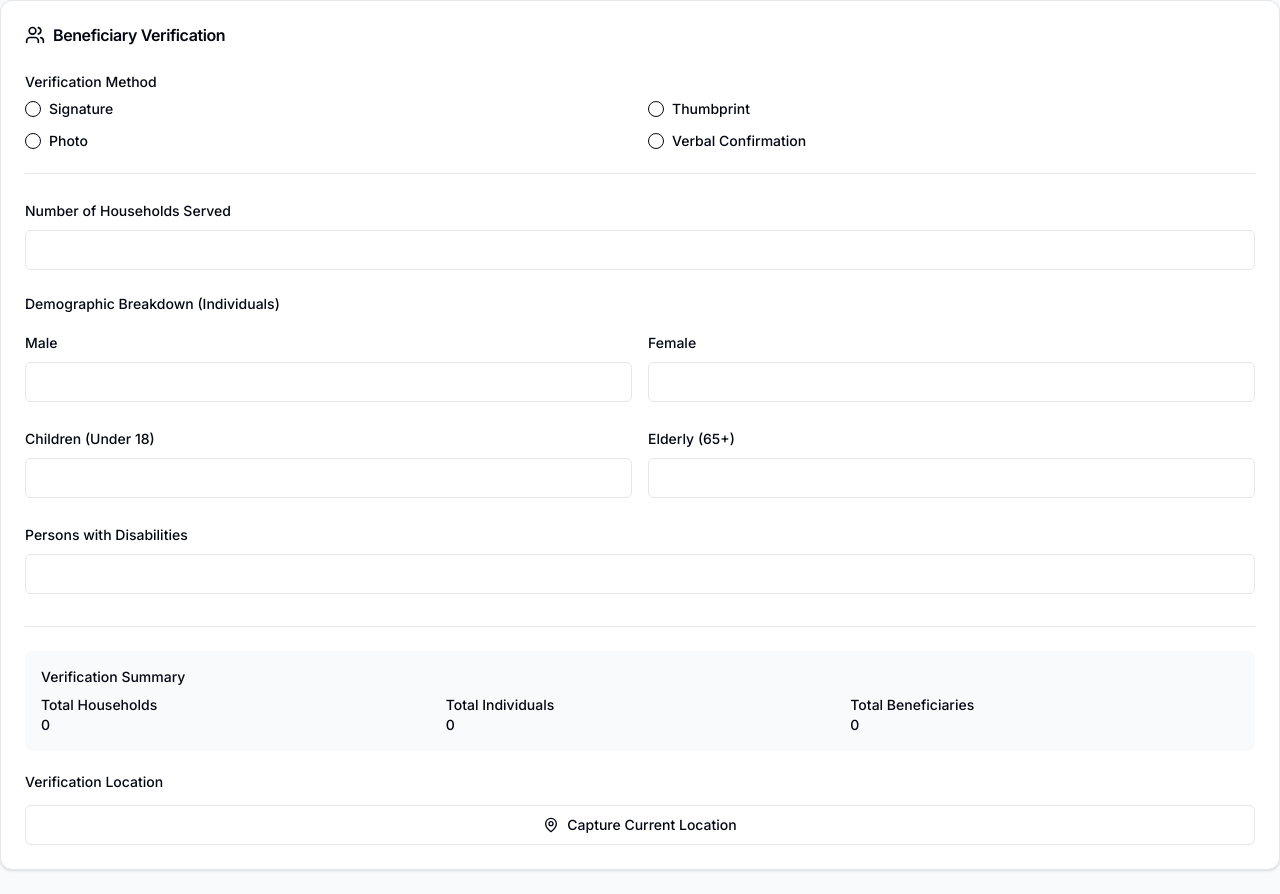
Test case: BeneficiaryVerification › captures GPS location when button is clicked
The image size is (1280, 894).
Click the button "Capture Current Location". click: (640, 825)
box: [25,805,1255,845]
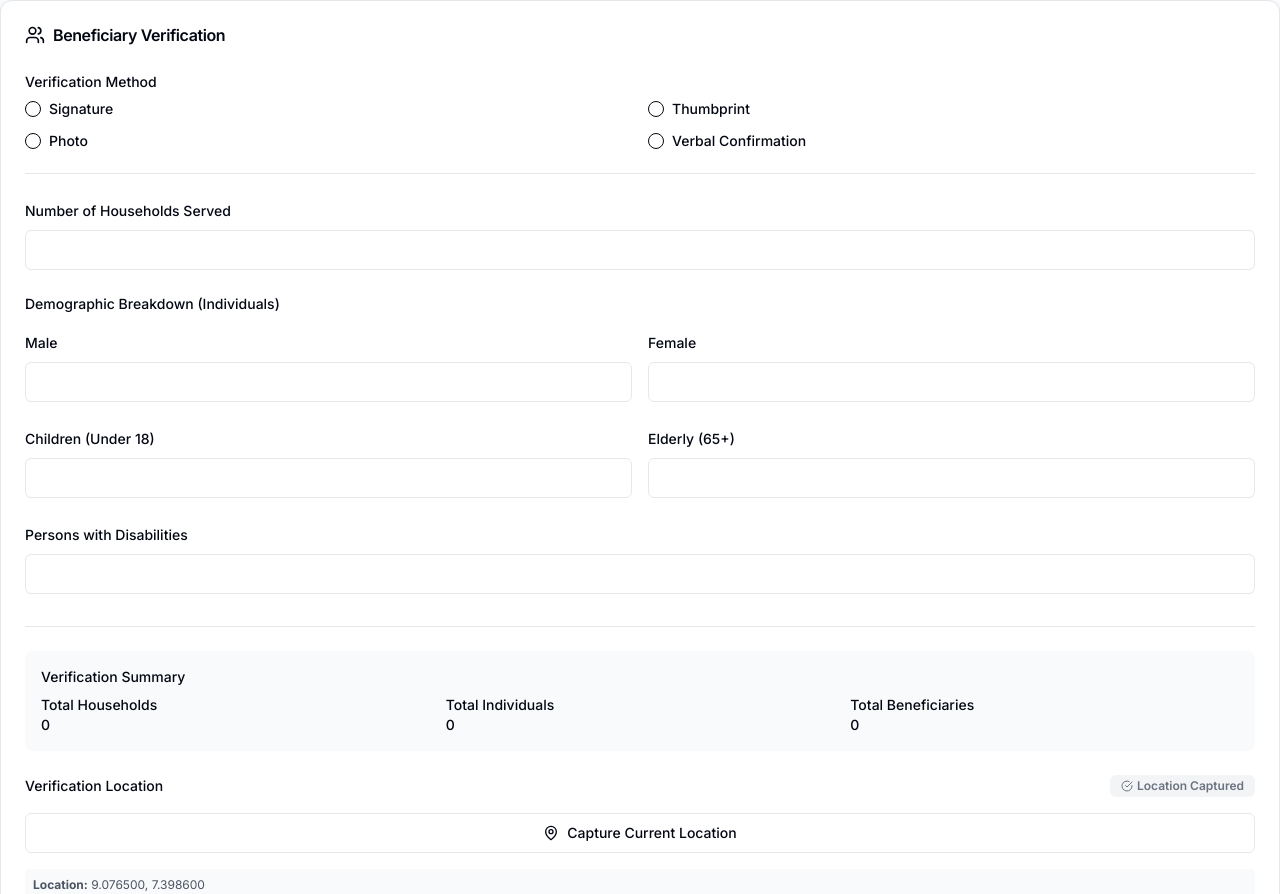
Expected: the text "Location Captured" is shown, [1110,775,1255,797]
